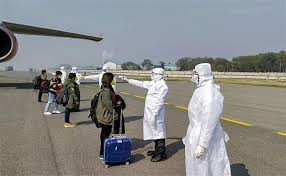mask: (184, 64, 208, 88), (147, 66, 165, 84), (68, 70, 78, 83), (98, 63, 108, 74), (55, 70, 63, 80)
